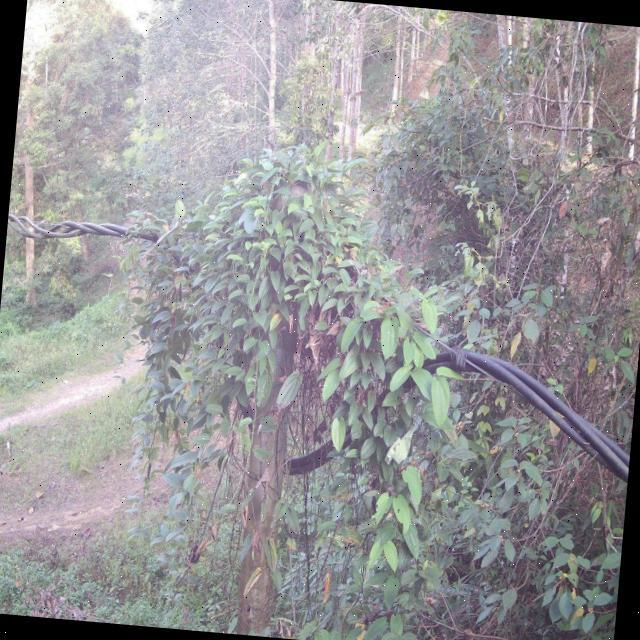critical vegetation: (132, 118, 477, 628)
